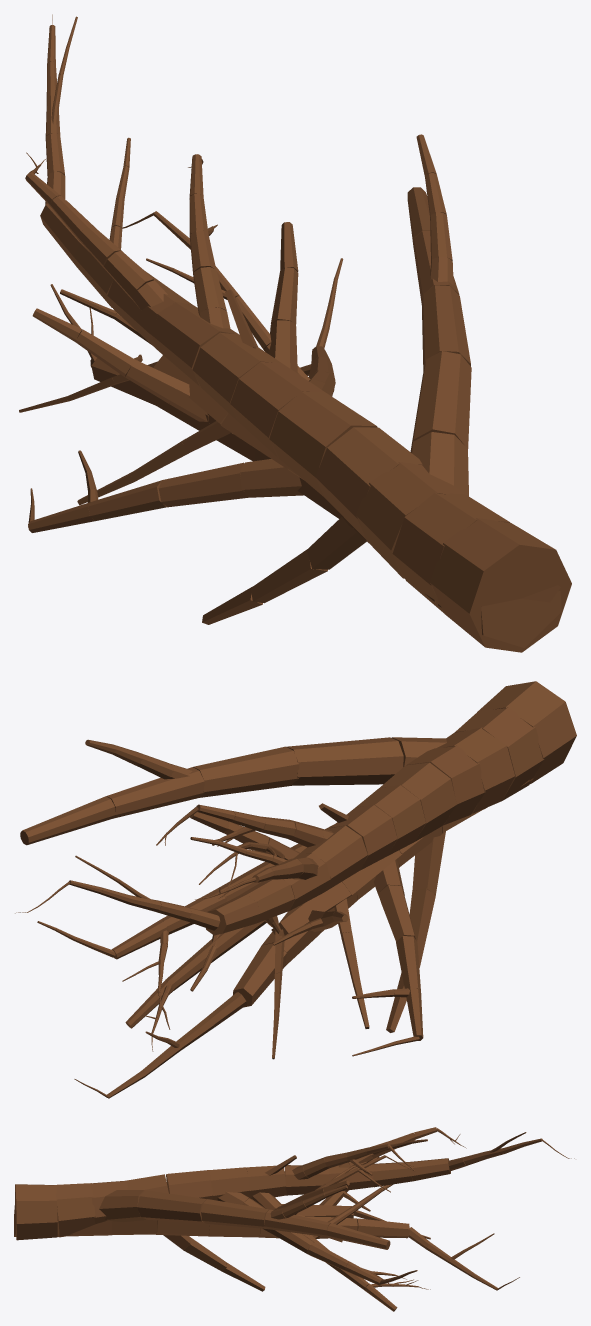
File: Tree_Dead.fbx
3 views of the same model, one above another, from view 1: azimuth 30°, elevation 25°; view 2: azimuth 150°, elevation 25°; view 3: azimuth 270°, elevation 25° (orthographic). The views are drawn at different scales.
Parts seen in each view (by area): view 1: Tree_Dead_LOD0_Wood, Tree_Dead_LOD1_Wood, Tree_Dead_LOD2_Wood; view 2: Tree_Dead_LOD0_Wood, Tree_Dead_LOD1_Wood, Tree_Dead_LOD2_Wood; view 3: Tree_Dead_LOD0_Wood, Tree_Dead_LOD1_Wood, Tree_Dead_LOD2_Wood.
Part boxes in pixels (bbox=[...]): Tree_Dead_LOD0_Wood: bbox=[25, 14, 571, 652]; Tree_Dead_LOD1_Wood: bbox=[28, 222, 561, 647]; Tree_Dead_LOD2_Wood: bbox=[19, 289, 560, 624]; Tree_Dead_LOD0_Wood: bbox=[15, 681, 576, 1051]; Tree_Dead_LOD1_Wood: bbox=[74, 778, 533, 1098]; Tree_Dead_LOD2_Wood: bbox=[271, 803, 445, 1059]; Tree_Dead_LOD0_Wood: bbox=[15, 1127, 574, 1311]; Tree_Dead_LOD1_Wood: bbox=[14, 1156, 519, 1290]; Tree_Dead_LOD2_Wood: bbox=[16, 1155, 430, 1291].
Size of the model in its own units: 475 by 385 by 1025.
